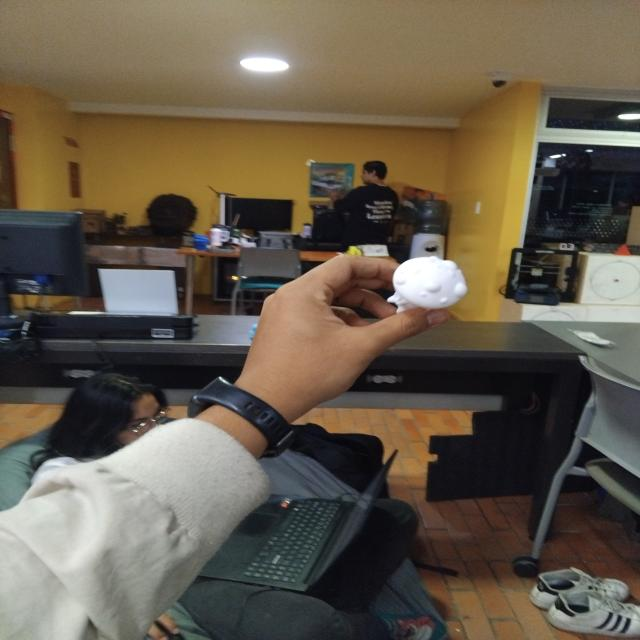Hongo: (380, 247, 475, 323)
